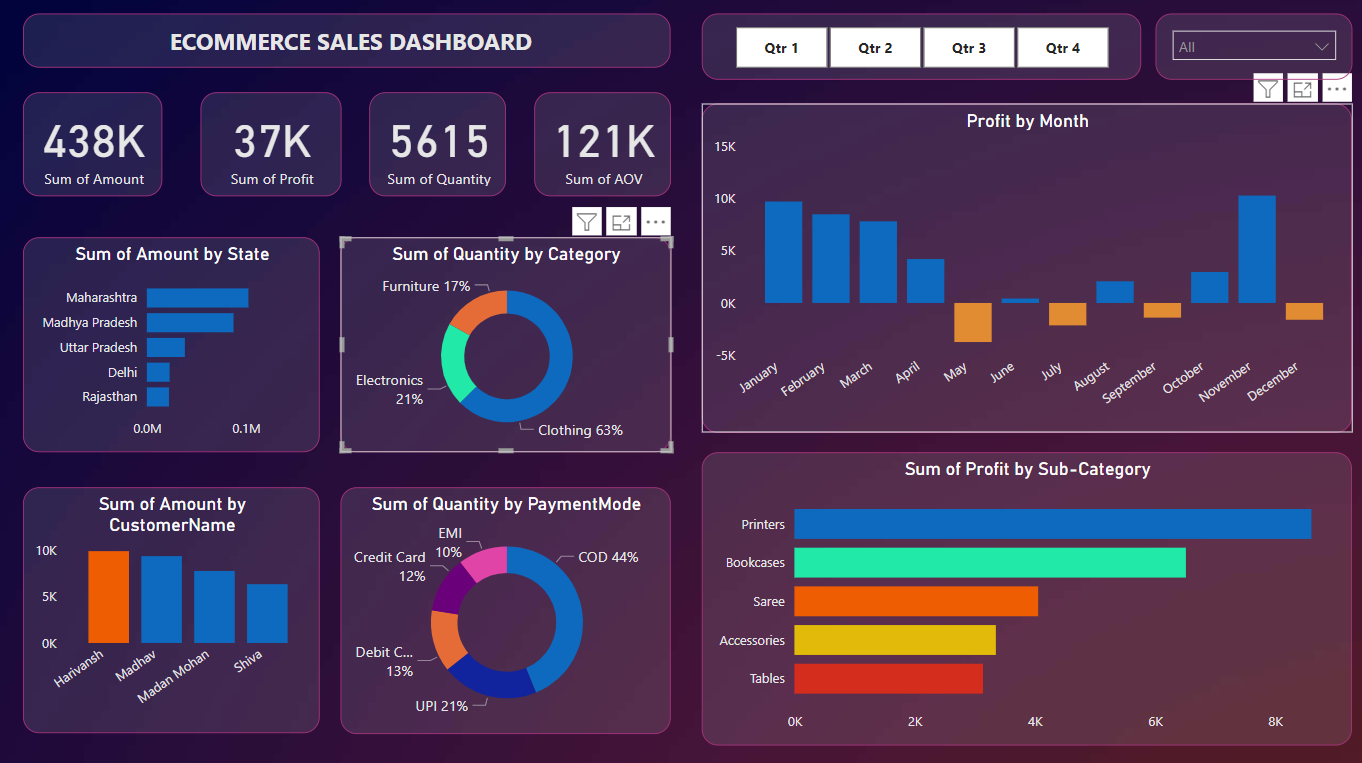

Layout of this report page (visuals, bound fields, positions):
{"tool":"powerbi","page":{"name":"Page 1","canvas":[1280,720],"ordinal":0},"visuals":[{"type":"textbox","box":[15.5,16.7,610.9,50],"z":0},{"type":"columnChart","title":"Profit by Month","fields":{"Category":["Orders.Order Date.Variation.Date Hierarchy.Month"],"Y":["Sum(Details.Profit)"]},"box":[655,100,605,306.1],"z":1000},{"type":"barChart","fields":{"Category":["Details.Sub-Category"],"Y":["Sum(Details.Profit)"]},"box":[655,424,605,272.7],"z":2000},{"type":"donutChart","fields":{"Category":["Details.Category"],"Y":["Sum(Details.Quantity)"]},"box":[319.2,223.9,307.3,200.1],"z":3000},{"type":"donutChart","fields":{"Y":["Sum(Details.Quantity)"],"Category":["Details.PaymentMode"]},"box":[319.2,457.3,307.3,229.8],"z":4000},{"type":"card","fields":{"Values":["Sum(Details.Amount)"]},"box":[23.8,89.3,129.8,96.5],"z":5000},{"type":"card","fields":{"Values":["Sum(Details.Profit)"]},"box":[188.2,89.3,131,96.5],"z":6000},{"type":"card","fields":{"Values":["Sum(Details.Quantity)"]},"box":[345.4,89.3,127.4,96.5],"z":7000},{"type":"card","fields":{"Values":["Sum(Details.AOV)"]},"box":[499,89.3,127.4,96.5],"z":8000},{"type":"barChart","fields":{"Category":["Orders.State"],"Y":["Sum(Details.Amount)"]},"box":[23.8,223.9,276.3,200.1],"z":9000},{"type":"columnChart","fields":{"Category":["Orders.CustomerName"],"Y":["Sum(Details.Amount)"]},"box":[23.8,457.3,276.3,228.7],"z":10000},{"type":"slicer","fields":{"Values":["Orders.Order Date.Variation.Date Hierarchy.Quarter"]},"box":[655,16.7,408.5,61.9],"z":11000},{"type":"slicer","fields":{"Values":["Orders.State"]},"box":[1076.6,16.7,183.4,61.9],"z":11001}]}

Visuals, with their boxes in screenshot pixels (x1, y1, x2, y2), scaled from the page's 1280x720 canvas onto the 1362x763 screenshot:
textbox: [16,18,667,71]
"Profit by Month" columnChart: [697,106,1341,430]
barChart - Details.Sub-Category x Sum(Details.Profit): [697,449,1341,738]
donutChart - Details.Category x Sum(Details.Quantity): [340,237,667,449]
donutChart - Sum(Details.Quantity) x Details.PaymentMode: [340,485,667,728]
card - Sum(Details.Amount): [25,95,163,197]
card - Sum(Details.Profit): [200,95,340,197]
card - Sum(Details.Quantity): [368,95,503,197]
card - Sum(Details.AOV): [531,95,667,197]
barChart - Orders.State x Sum(Details.Amount): [25,237,319,449]
columnChart - Orders.CustomerName x Sum(Details.Amount): [25,485,319,727]
slicer - Orders.Order Date.Variation.Date Hierarchy.Quarter: [697,18,1132,83]
slicer - Orders.State: [1146,18,1341,83]
